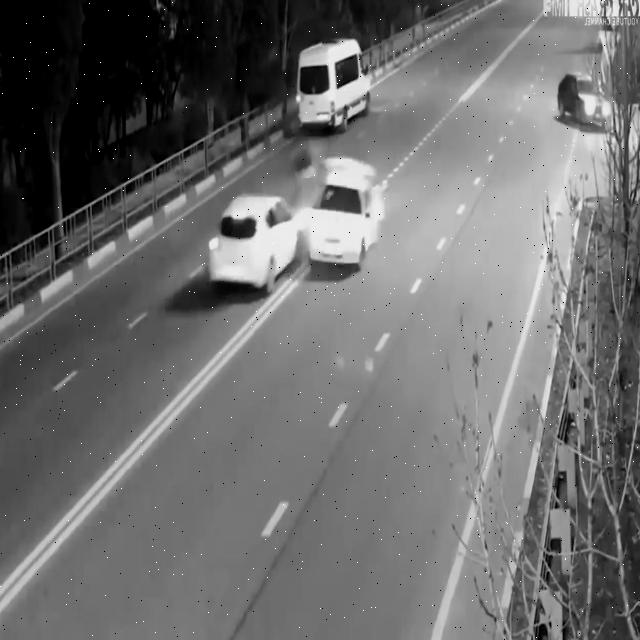accident: (202, 131, 391, 303)
